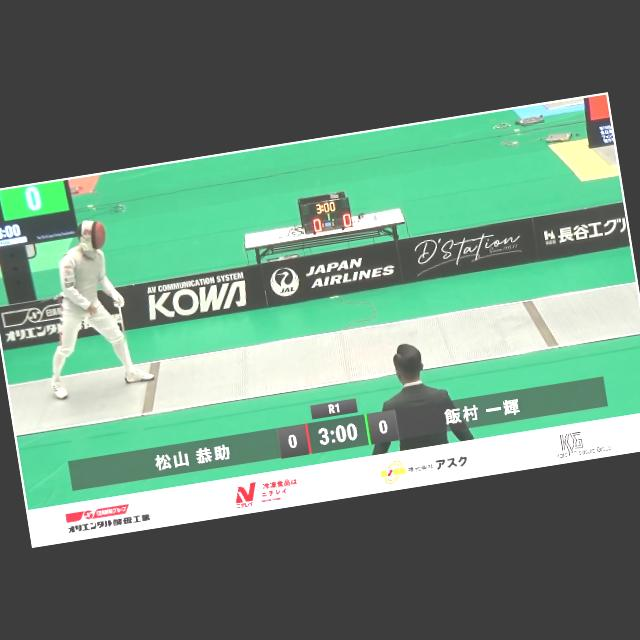blade: (112, 298, 142, 387)
